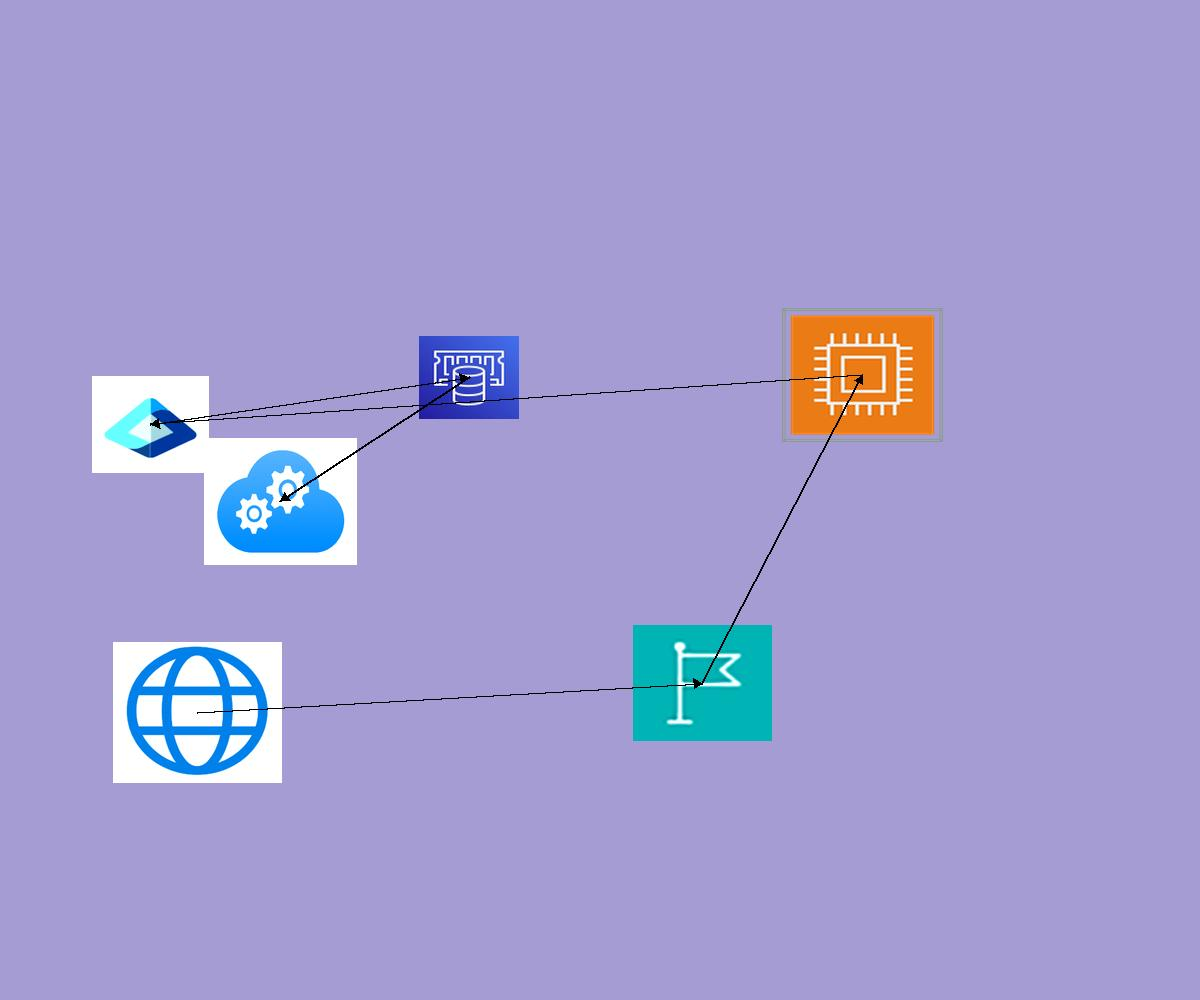AWS-Category_Compute: (782, 308, 943, 442)
AWS-ElastiCache: (419, 336, 519, 419)
AWS-Region: (633, 625, 772, 741)
Azure_cloud_services: (204, 438, 357, 565)
Azure_http: (113, 642, 282, 783)
Azure_microsoft_entra: (92, 376, 209, 473)
